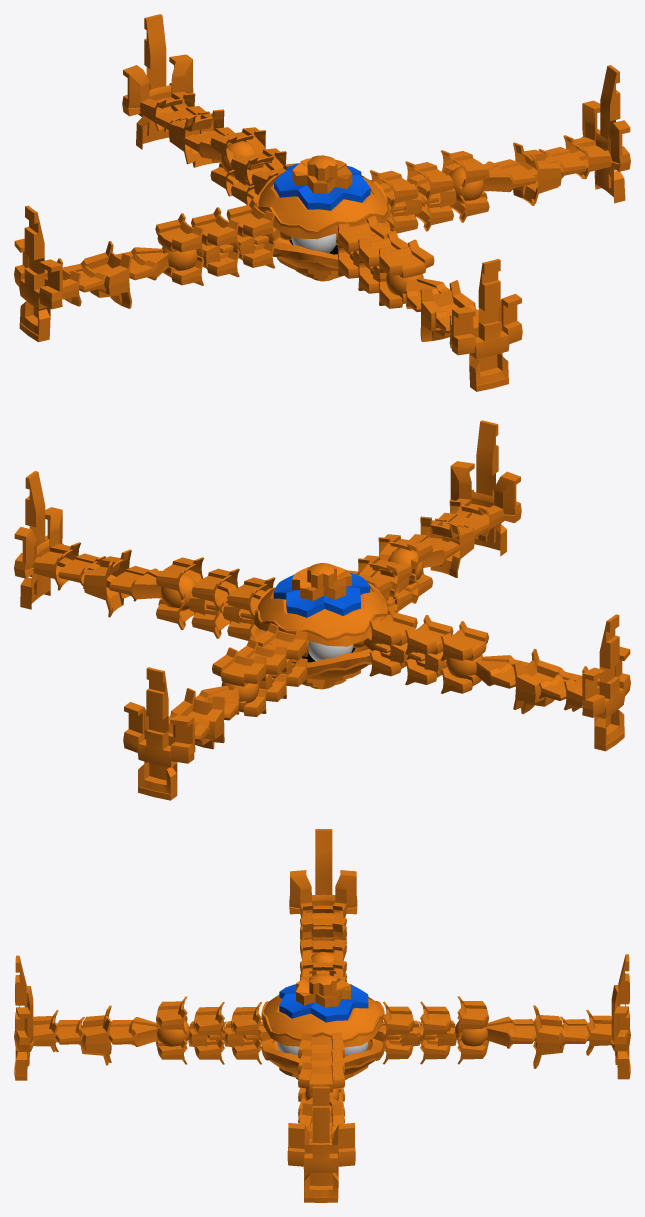
The model's file is SpiderMech1.fbx.
3 renders of one model, top to bottom at view 1: azimuth 30°, elevation 25°; view 2: azimuth 150°, elevation 25°; view 3: azimuth 270°, elevation 25°, orthographic. The views are drawn at different scales.
Parts seen in each view (by area): view 1: body, bottom7, top7, left7, right7, left4, right4, bottom4, left3, right3, left2, top4 (+14 smaller); view 2: body, top7, bottom7, right7, left7, left4, right4, top4, left3, right3, bottom4, left2 (+14 smaller); view 3: body, right7, left7, top7, bottom7, bottom4, top4, top3, bottom3, top2, bottom2, right4 (+12 smaller).
Part boxes in pixels (<box>): body: <box>256,155,390,281</box>; bottom7: <box>449,259,522,391</box>; top7: <box>122,14,195,149</box>; left7: <box>14,205,81,342</box>; right7: <box>563,65,630,203</box>; left4: <box>134,213,204,285</box>; right4: <box>441,150,512,222</box>; bottom4: <box>379,239,441,308</box>; left3: <box>191,207,239,277</box>; right3: <box>405,161,456,231</box>; left2: <box>226,198,275,268</box>; top4: <box>199,127,265,196</box>; body: <box>254,563,388,689</box>; top7: <box>123,667,195,800</box>; bottom7: <box>449,420,521,556</box>; right7: <box>14,471,80,609</box>; left7: <box>564,614,630,751</box>; left4: <box>440,621,510,693</box>; right4: <box>131,557,203,629</box>; top4: <box>203,647,266,716</box>; left3: <box>405,615,453,685</box>; right3: <box>189,568,239,638</box>; bottom4: <box>378,534,445,603</box>; left2: <box>369,606,417,676</box>; body: <box>261,974,384,1080</box>; right7: <box>287,1086,355,1202</box>; left7: <box>289,829,357,918</box>; top7: <box>586,954,630,1079</box>; bottom7: <box>14,955,58,1080</box>; bottom4: <box>134,996,189,1064</box>; top4: <box>455,996,510,1064</box>; top3: <box>418,1001,456,1064</box>; bottom3: <box>188,1002,226,1064</box>; top2: <box>382,1001,420,1064</box>; bottom2: <box>224,1002,262,1064</box>; right4: <box>298,1061,344,1116</box>.
Bounding box in the file's own units: 1378 × 314 × 1378.
